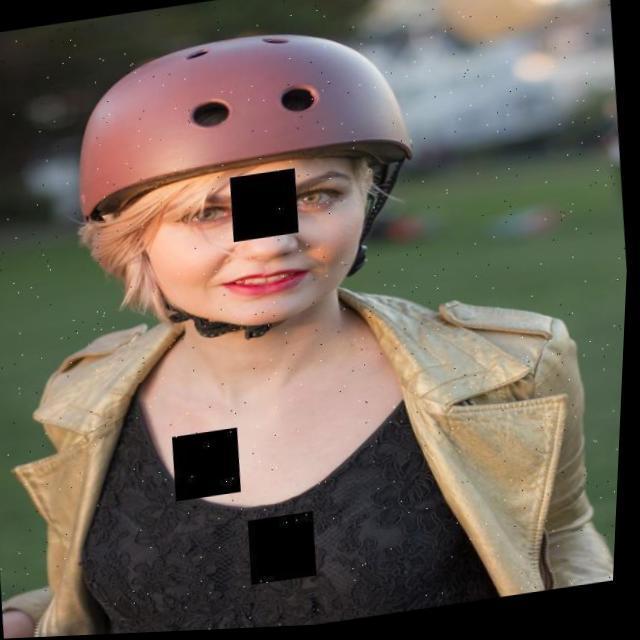helmet: (55, 17, 429, 371)
